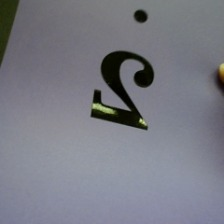violet2: (82, 6, 162, 134)
